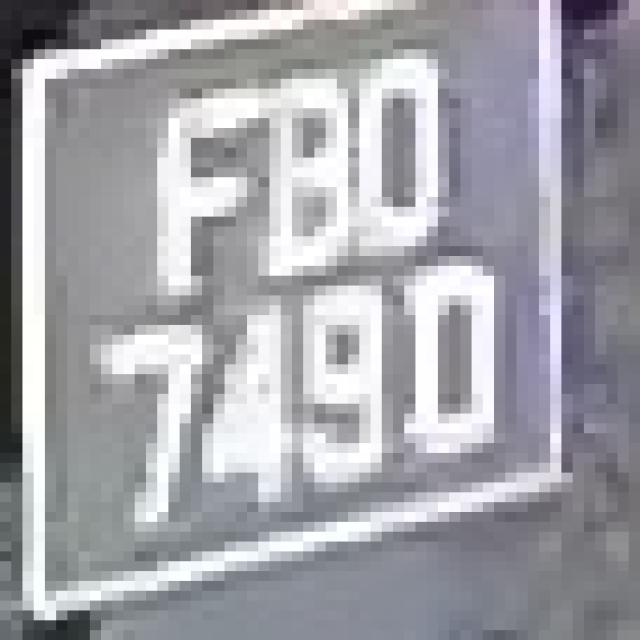4: (191, 286, 314, 532)
7: (68, 296, 214, 552)
9: (270, 246, 416, 492)
B: (236, 49, 359, 276)
D: (404, 246, 517, 473)
F: (124, 69, 247, 335)
O: (315, 19, 449, 276)
